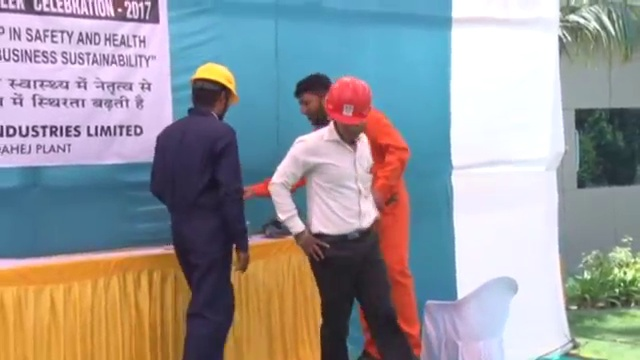helmet: (323, 76, 374, 126), (190, 61, 238, 103)
helmet_off: (296, 73, 331, 129)
helmet_on: (322, 75, 374, 148), (187, 58, 239, 124)
person: (272, 76, 412, 360), (295, 71, 425, 355), (148, 57, 249, 360)
